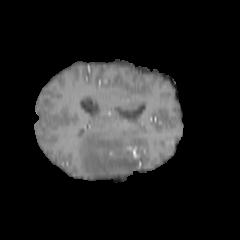glioma: (77, 129, 137, 176)
